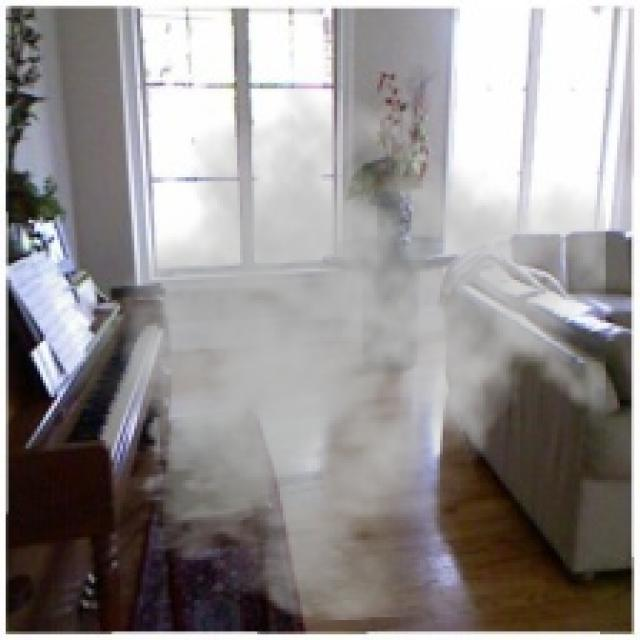Smoke: (69, 80, 606, 623)
